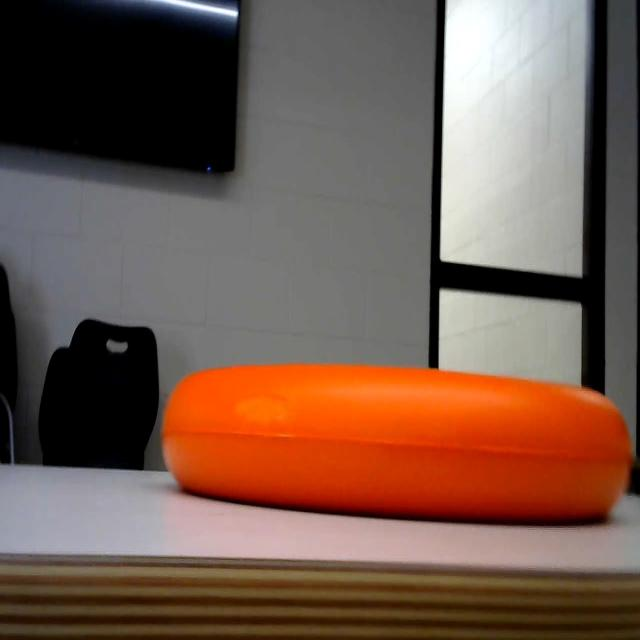note: (159, 349, 637, 534)
